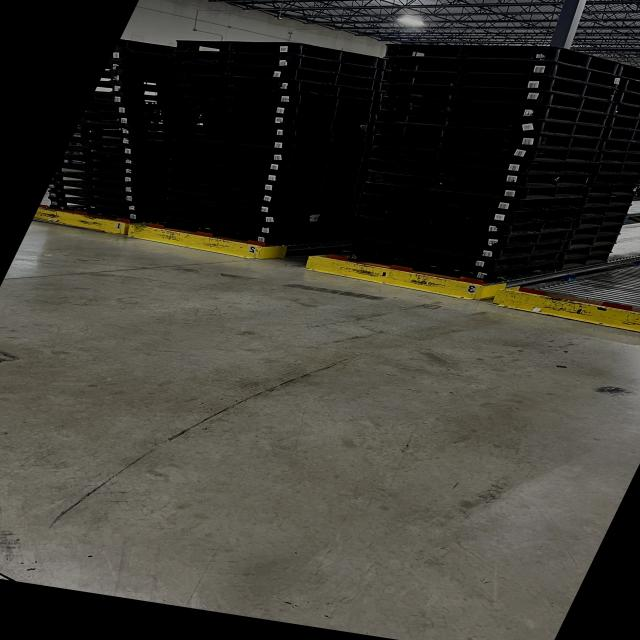igps: (374, 39, 626, 78), (379, 54, 625, 92), (375, 67, 622, 104), (368, 88, 616, 117), (560, 252, 616, 272), (564, 233, 625, 250), (558, 243, 618, 260), (584, 182, 640, 200), (568, 224, 627, 241), (578, 203, 633, 221), (574, 214, 634, 230), (590, 170, 640, 188), (581, 193, 637, 209), (599, 136, 640, 156), (592, 160, 640, 177), (604, 124, 640, 145), (596, 149, 640, 166), (607, 112, 640, 134), (614, 60, 640, 84), (610, 100, 640, 120), (617, 88, 640, 108), (620, 76, 640, 98)
